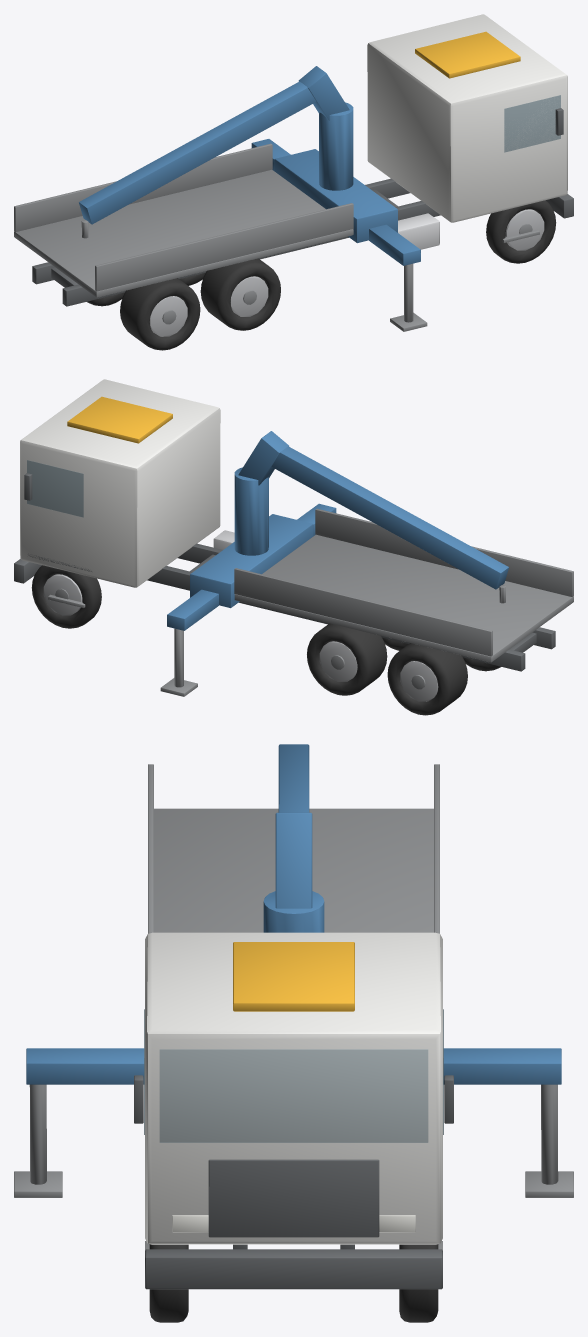
Rendered from EQP-ELV-004_lod1.glb.
3 renders of one model, top to bottom at view 1: azimuth 30°, elevation 25°; view 2: azimuth 150°, elevation 25°; view 3: azimuth 270°, elevation 25°, orthographic. The views are drawn at different scales.
Parts seen in each view (by area): view 1: EQP-ELV-004_cab, EQP-ELV-004_carroceria, EQP-ELV-004_guarda-1, EQP-ELV-004_lanca2, EQP-ELV-004_guarda1, EQP-ELV-004_base_munck, EQP-ELV-004_roda4_pneu, EQP-ELV-004_roda2_pneu, EQP-ELV-004_luzes, EQP-ELV-004_coluna, EQP-ELV-004_janela-1, EQP-ELV-004_roda0_pneu (+10 smaller); view 2: EQP-ELV-004_cab, EQP-ELV-004_carroceria, EQP-ELV-004_guarda1, EQP-ELV-004_lanca2, EQP-ELV-004_guarda-1, EQP-ELV-004_base_munck, EQP-ELV-004_roda5_pneu, EQP-ELV-004_roda3_pneu, EQP-ELV-004_luzes, EQP-ELV-004_coluna, EQP-ELV-004_janela1, EQP-ELV-004_roda1_pneu (+9 smaller); view 3: EQP-ELV-004_cab, EQP-ELV-004_carroceria, EQP-ELV-004_parabrisa, EQP-ELV-004_grade, EQP-ELV-004_parachoque, EQP-ELV-004_luzes, EQP-ELV-004_patola1, EQP-ELV-004_patola-1, EQP-ELV-004_lanca1, EQP-ELV-004_lanca2, EQP-ELV-004_coluna, EQP-ELV-004_macaco1 (+7 smaller).
Boxes of the visible parts, x1,y1,x2,y2 form: EQP-ELV-004_cab: (367, 14, 567, 222); EQP-ELV-004_carroceria: (14, 170, 353, 297); EQP-ELV-004_guarda-1: (95, 203, 353, 291); EQP-ELV-004_lanca2: (79, 81, 316, 224); EQP-ELV-004_guarda1: (14, 143, 272, 232); EQP-ELV-004_base_munck: (274, 149, 397, 243); EQP-ELV-004_roda4_pneu: (120, 278, 200, 350); EQP-ELV-004_roda2_pneu: (200, 258, 280, 330); EQP-ELV-004_luzes: (415, 31, 520, 78); EQP-ELV-004_coluna: (319, 102, 353, 190); EQP-ELV-004_janela-1: (504, 95, 560, 152); EQP-ELV-004_roda0_pneu: (486, 200, 556, 263); EQP-ELV-004_cab: (20, 379, 220, 587); EQP-ELV-004_carroceria: (234, 535, 573, 662); EQP-ELV-004_guarda1: (234, 568, 492, 656); EQP-ELV-004_lanca2: (271, 446, 508, 589); EQP-ELV-004_guarda-1: (315, 508, 573, 596); EQP-ELV-004_base_munck: (190, 514, 313, 608); EQP-ELV-004_roda5_pneu: (387, 643, 467, 715); EQP-ELV-004_roda3_pneu: (307, 623, 387, 695); EQP-ELV-004_luzes: (67, 396, 172, 443); EQP-ELV-004_coluna: (234, 467, 268, 555); EQP-ELV-004_janela1: (27, 460, 83, 517); EQP-ELV-004_roda1_pneu: (31, 565, 101, 628); EQP-ELV-004_cab: (145, 932, 442, 1244); EQP-ELV-004_carroceria: (154, 808, 433, 932); EQP-ELV-004_parabrisa: (159, 1049, 428, 1142); EQP-ELV-004_grade: (208, 1159, 379, 1237); EQP-ELV-004_parachoque: (145, 1249, 442, 1289); EQP-ELV-004_luzes: (233, 942, 354, 1011); EQP-ELV-004_patola1: (443, 1048, 561, 1084); EQP-ELV-004_patola-1: (26, 1048, 144, 1084); EQP-ELV-004_lanca1: (275, 812, 312, 908); EQP-ELV-004_lanca2: (278, 744, 309, 812); EQP-ELV-004_coluna: (263, 891, 324, 932); EQP-ELV-004_macaco1: (541, 1084, 558, 1184).
Bounding box in the file's own units: 8.08 × 3.28 × 4.6.
